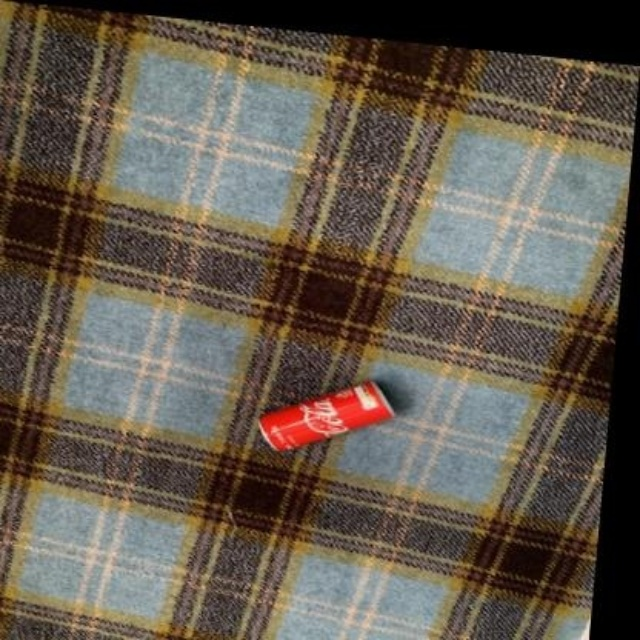trash: (258, 382, 392, 449)
